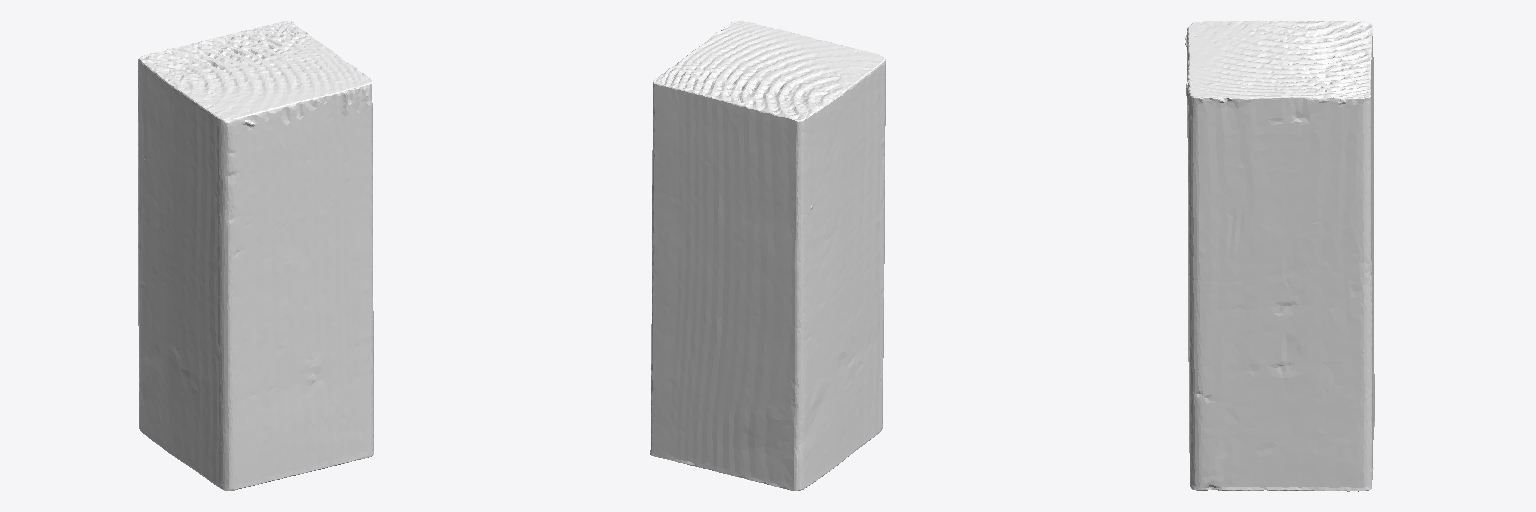
URDF robot description (f_lego_duplo):
<robot name="f_lego_duplo">
	<link name="base_link">
		<visual>
			<origin xyz="0.028303653148494833 0.06646108978076667 -0.02360720585959244" rpy="0.0 0.0 0.0" />
			<geometry>
				<mesh filename="073-f_lego_duplo/google_16k/textured.obj" scale="1 1 1" />
			</geometry>
			<material name="texture">
				<color rgba="1.0 1.0 1.0 1.0" />
			</material>
		</visual>
		<collision>
			<origin xyz="0.028303653148494833 0.06646108978076667 -0.02360720585959244" rpy="0.0 0.0 0.0" />
			<geometry>
				<mesh filename="073-f_lego_duplo/google_16k/textured_vhacd.obj" scale="1 1 1" />
			</geometry>
		</collision>
		<inertial>
			<mass value="0.0372" />
			<inertia ixx="1e-3" ixy="0.0" ixz="0.0" iyy="1e-3" iyz="0.0" izz="1e-3" />
		</inertial>
	</link>
</robot>

--- What the picture shows (computed from the rendered views, not written in the file) ---
The picture shows the robot from 3 angles, left to right: view 1: azimuth 30°, elevation 25°; view 2: azimuth 150°, elevation 25°; view 3: azimuth 270°, elevation 25°; orthographic projection.
Model f_lego_duplo with 1 links and 0 joints (none), rooted at base_link, posed all joints at 0.
Visible links, largest first — view 1: base_link; view 2: base_link; view 3: base_link.
Link boxes in pixels (x1,y1,x2,y2): base_link: [138, 21, 373, 490]; base_link: [650, 21, 885, 490]; base_link: [1185, 20, 1374, 491].
Size in the robot's own frame: 0.0906 by 0.0899 by 0.206 metres.
Meshes: 1 distinct files referenced, 1 mesh visuals loaded (1 OBJ).